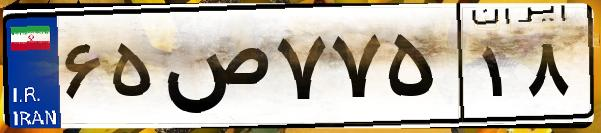1: (475, 38, 525, 113)
5: (385, 28, 445, 110), (110, 28, 158, 98)
6: (57, 26, 110, 100)
7: (270, 28, 330, 110), (330, 28, 385, 110)
8: (525, 38, 570, 115)
ص: (158, 20, 270, 120)
